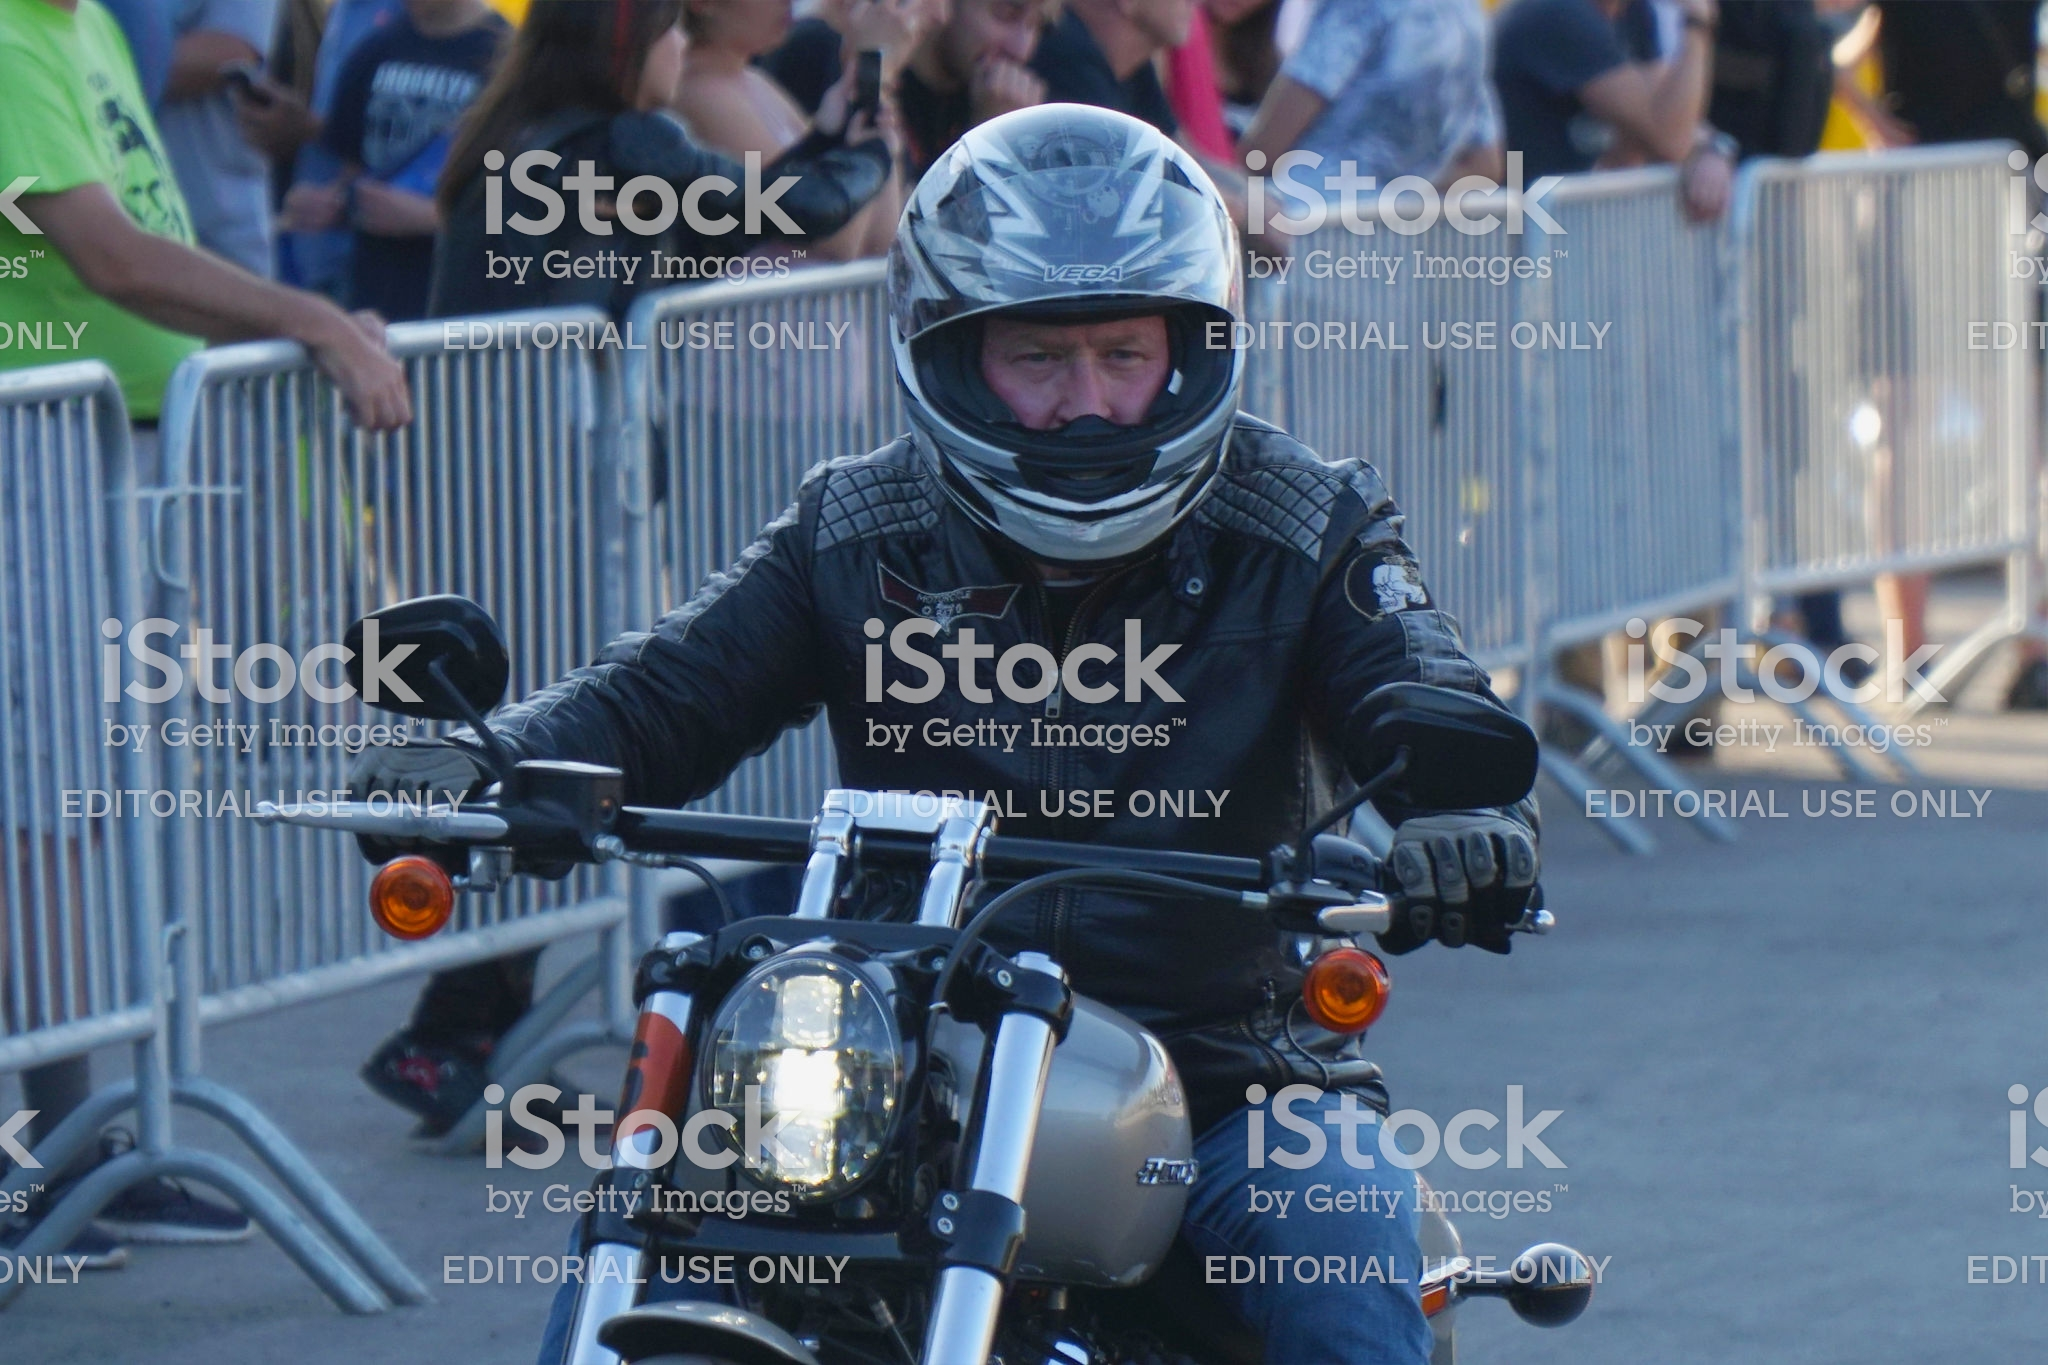helmet: (877, 113, 1279, 608)
